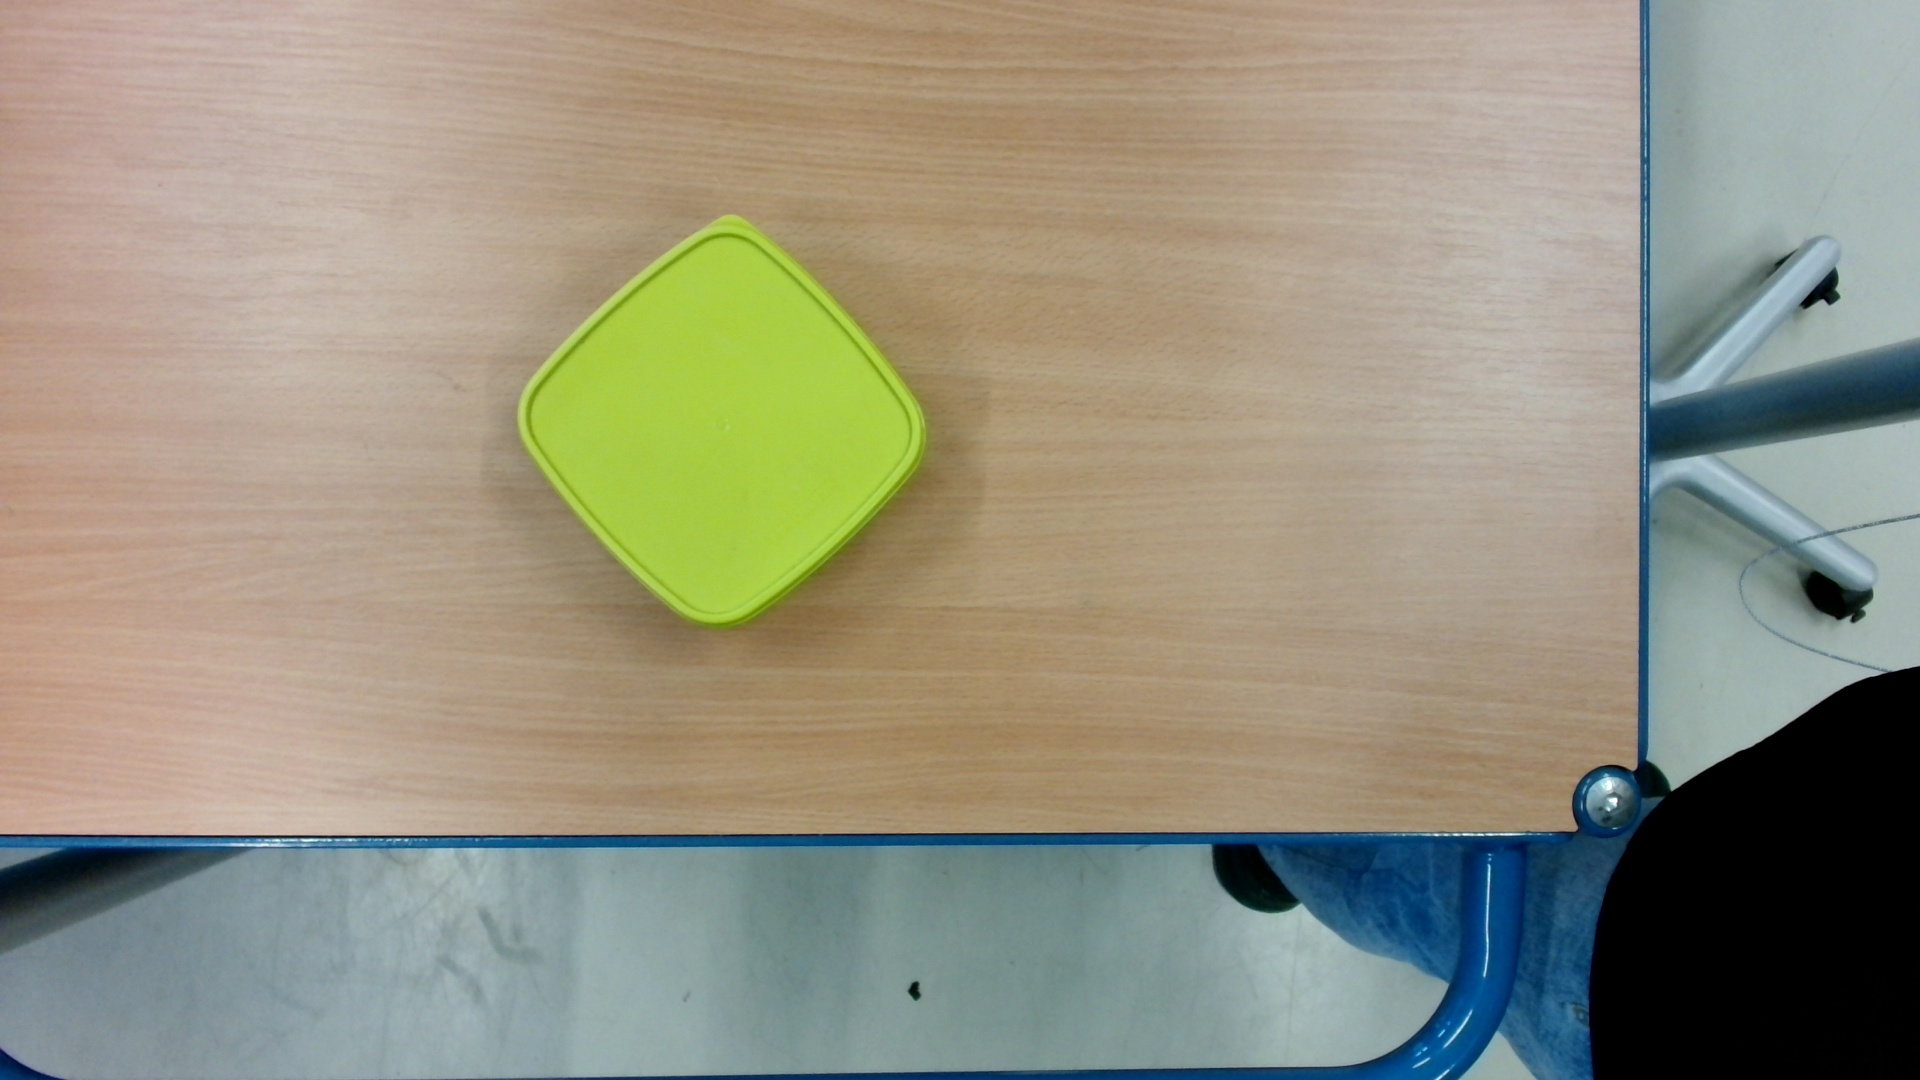Box: (508, 204, 935, 636)
